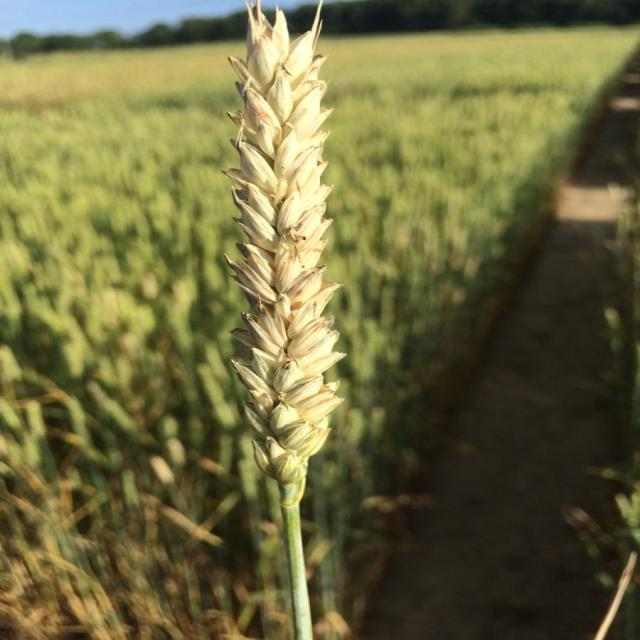Wheathead: (217, 6, 372, 466)
